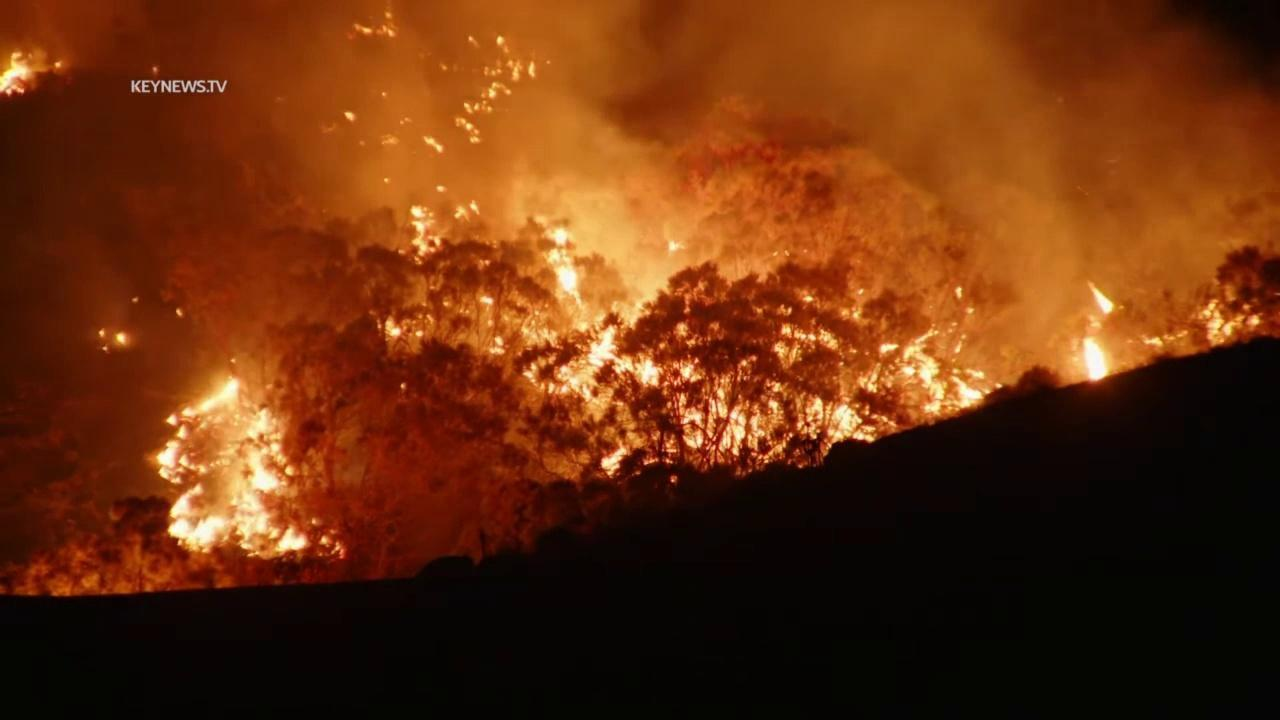fire: (524, 292, 989, 448), (157, 382, 351, 563), (1064, 276, 1123, 381), (539, 227, 585, 309), (1200, 296, 1264, 347), (403, 201, 444, 263), (0, 44, 37, 99), (459, 78, 514, 115), (351, 8, 400, 38), (1138, 326, 1192, 347), (600, 445, 633, 478), (93, 324, 130, 353), (451, 116, 483, 143), (373, 314, 405, 337), (455, 196, 482, 223), (487, 334, 509, 360), (421, 134, 448, 155), (486, 20, 505, 47), (665, 236, 685, 258), (950, 281, 966, 299), (477, 294, 496, 308), (50, 57, 65, 71), (343, 109, 357, 123), (962, 305, 979, 316), (434, 183, 450, 194), (415, 326, 427, 339), (502, 310, 514, 322)
smoke: (0, 0, 1280, 560)
